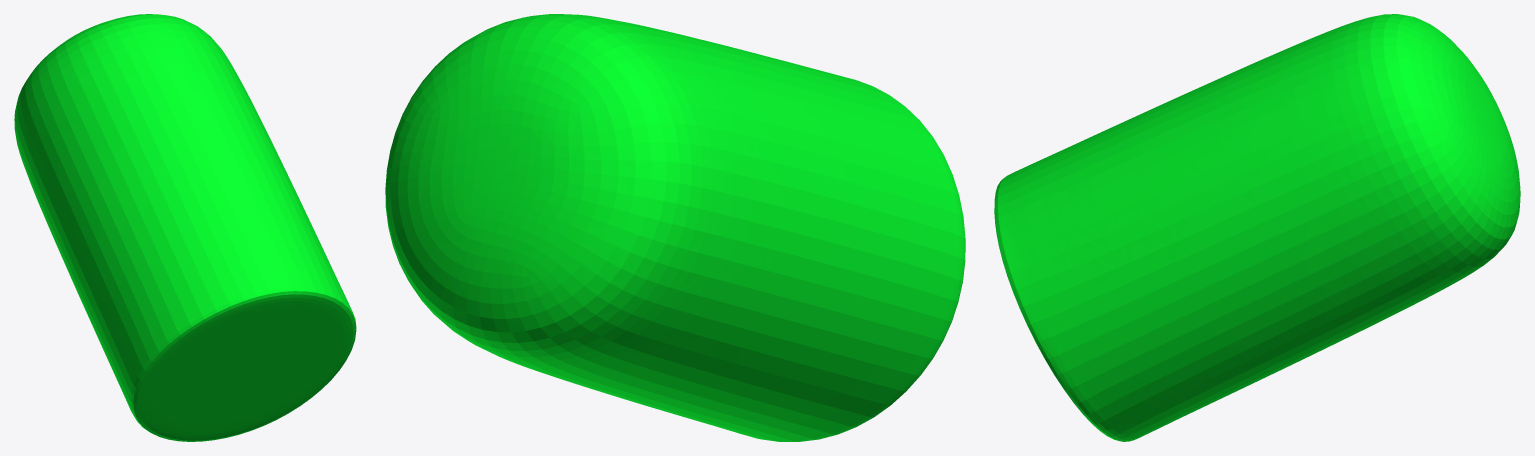
The model's file is Krytka.OBJ.
The picture shows the model from 3 angles, left to right: view 1: azimuth 30°, elevation 25°; view 2: azimuth 150°, elevation 25°; view 3: azimuth 270°, elevation 25°; orthographic projection. The views are drawn at different scales.
Visible parts, largest first — view 1: ZBrushPolyMesh3D; view 2: ZBrushPolyMesh3D; view 3: ZBrushPolyMesh3D.
Boxes of the visible parts, x1,y1,x2,y2 form: ZBrushPolyMesh3D: (14,14,356,441); ZBrushPolyMesh3D: (385,14,965,441); ZBrushPolyMesh3D: (994,14,1520,441).
Bounding box in the file's own units: 0.1098 × 0.1559 × 0.1815.
